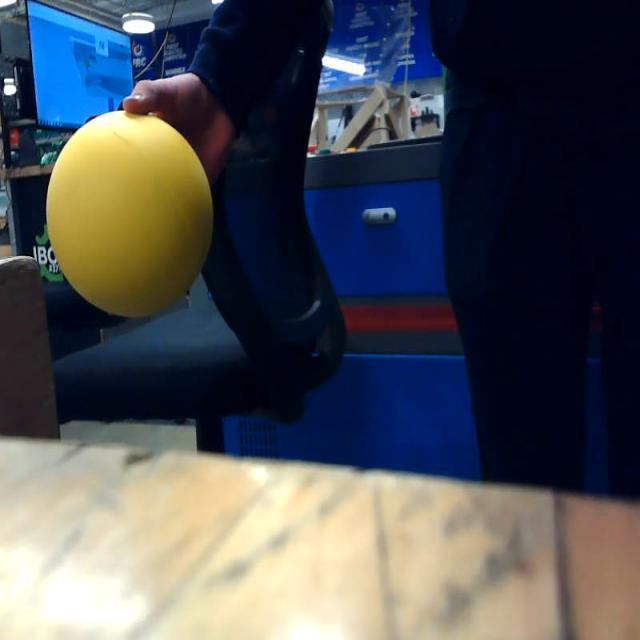Fuel: (46, 110, 214, 318)
